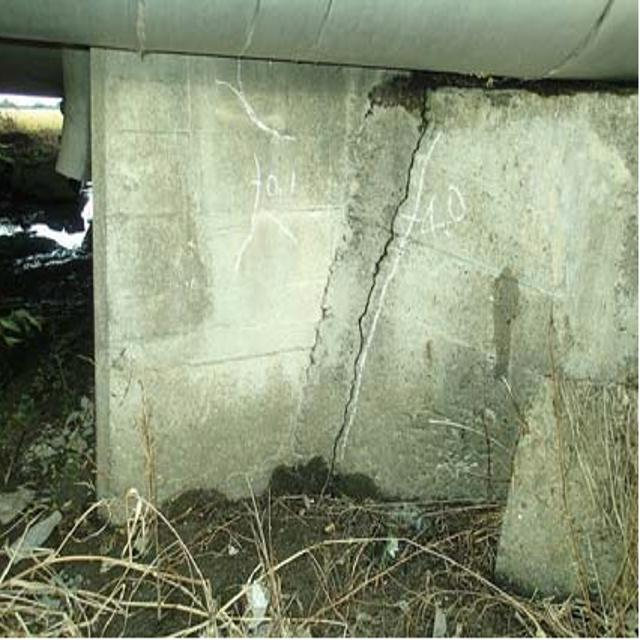crack: (318, 84, 452, 476)
